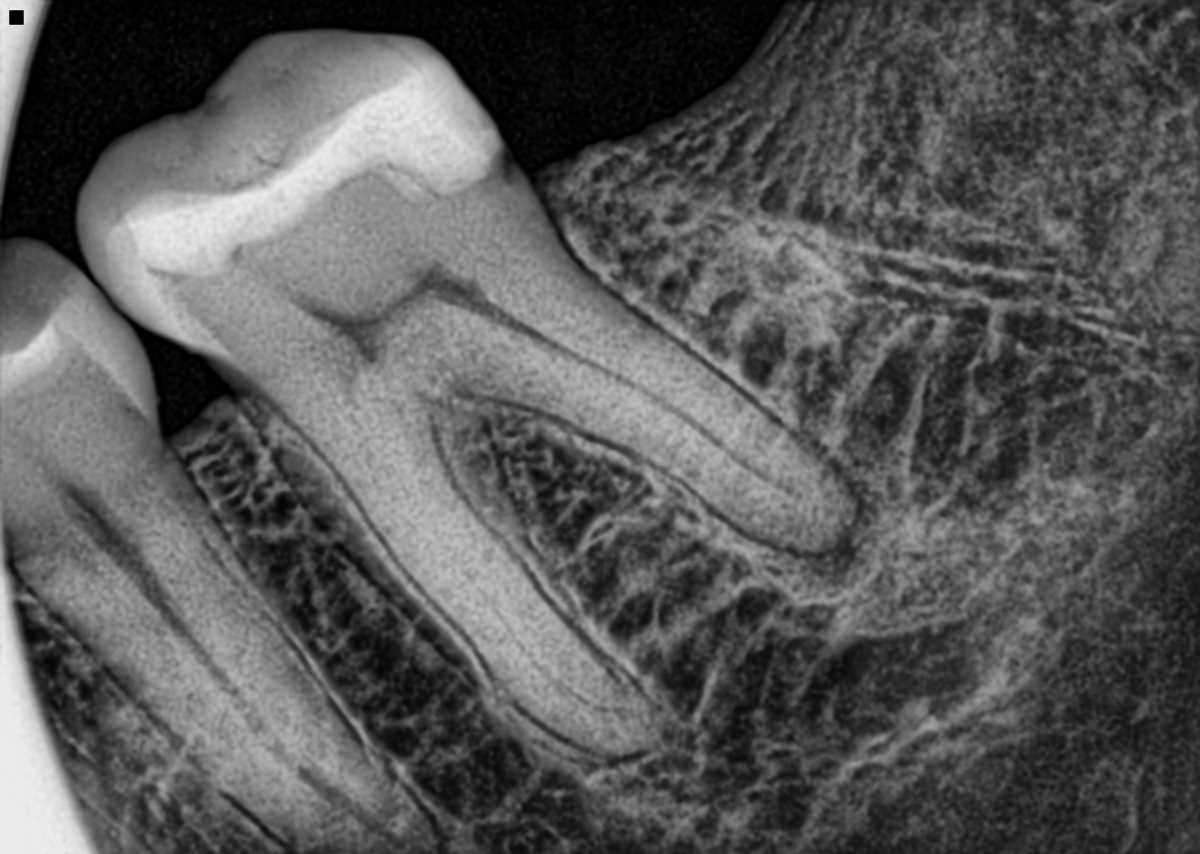Apical Lesion: (784, 443, 882, 591)
Distal Canal: (473, 295, 799, 498)
Distal Root: (444, 214, 857, 557)
Main Canal: (86, 513, 410, 848)
Main Root: (30, 450, 435, 854)
Mesial Canal: (493, 602, 658, 713)
Mesial Root: (302, 404, 665, 759)
